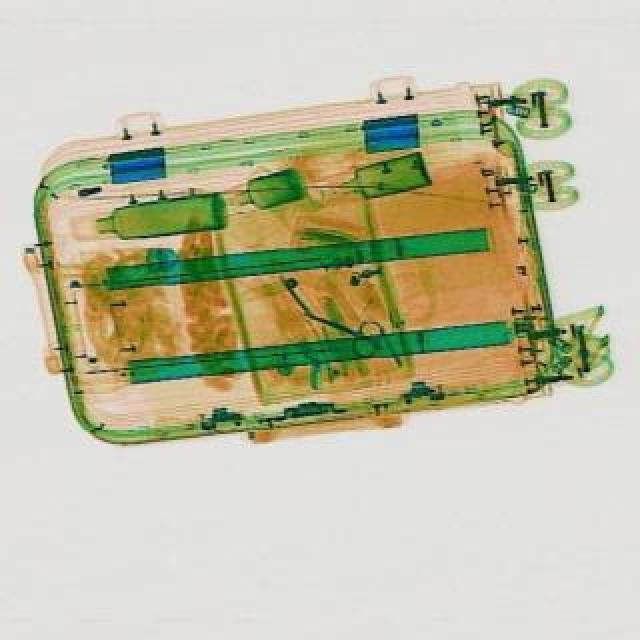pliers: (290, 294, 386, 362)
